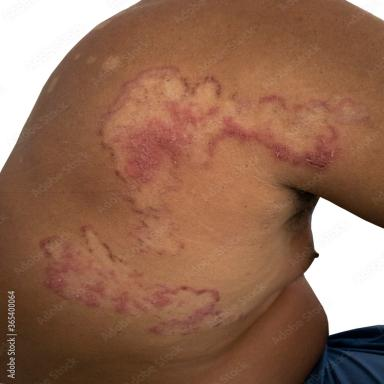Tinea-Corporis: (97, 65, 367, 255), (40, 227, 220, 334)
